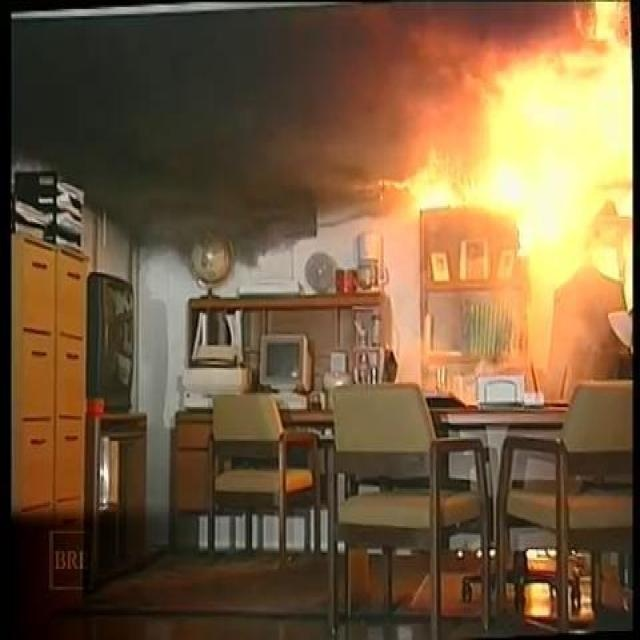fire: (420, 6, 632, 193)
smoke: (12, 11, 382, 221)
